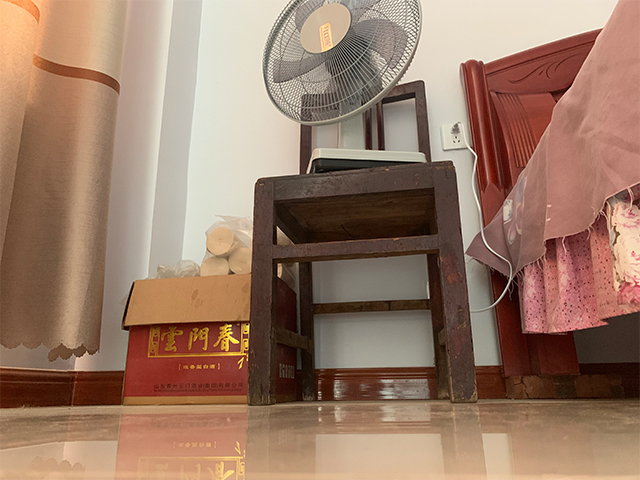bed: (457, 1, 640, 401)
curtain: (1, 1, 128, 363)
stool: (247, 80, 480, 406)
